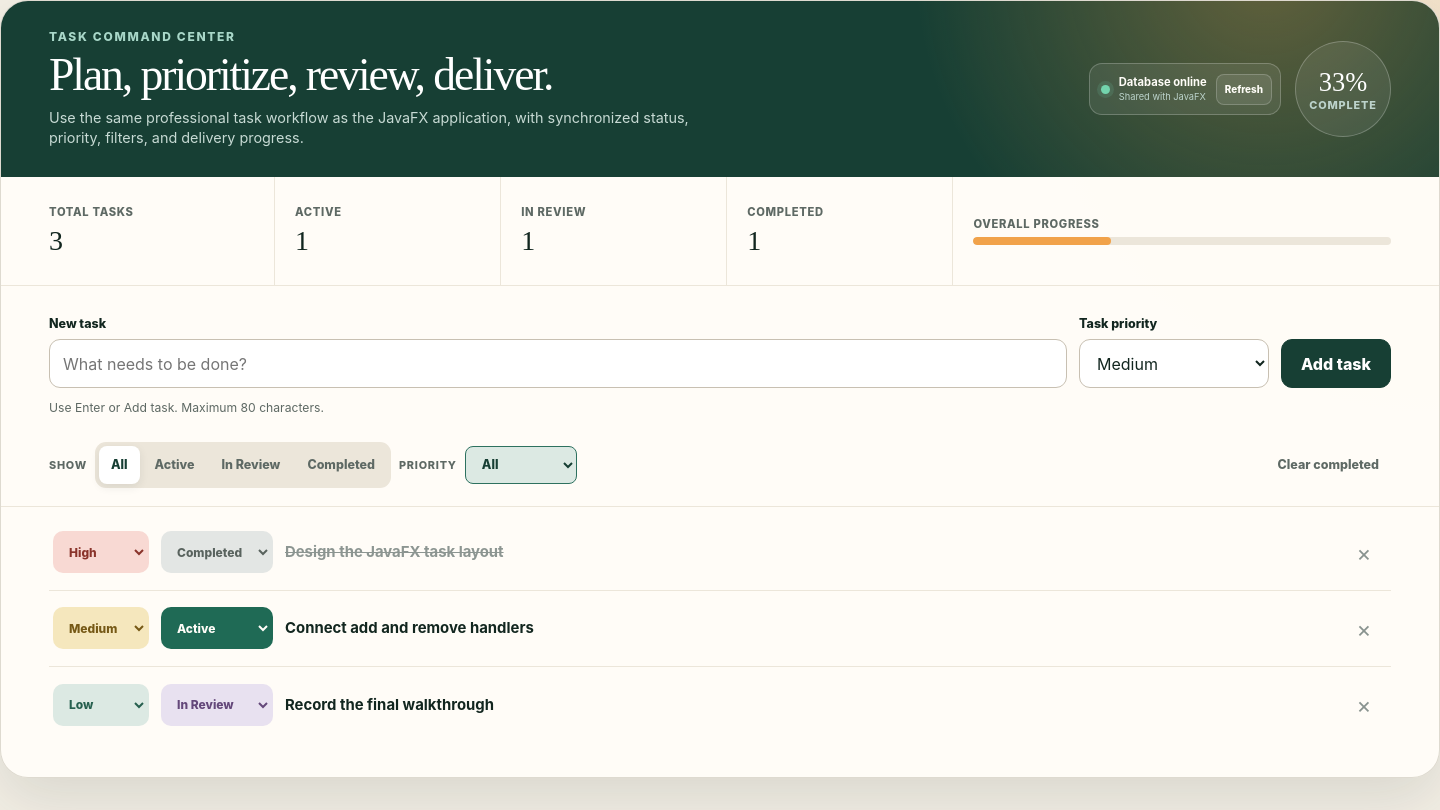
Test: AdvancedTaskLab › moves tasks into review and combines status and priority filters
Expected: the text "Connect add and remove handlers" is shown, [285, 619, 534, 637]
Select "In Review" in the dropdown named "Status for \"Connect add and remove handlers\"" at (217, 628), box [161, 607, 273, 649]
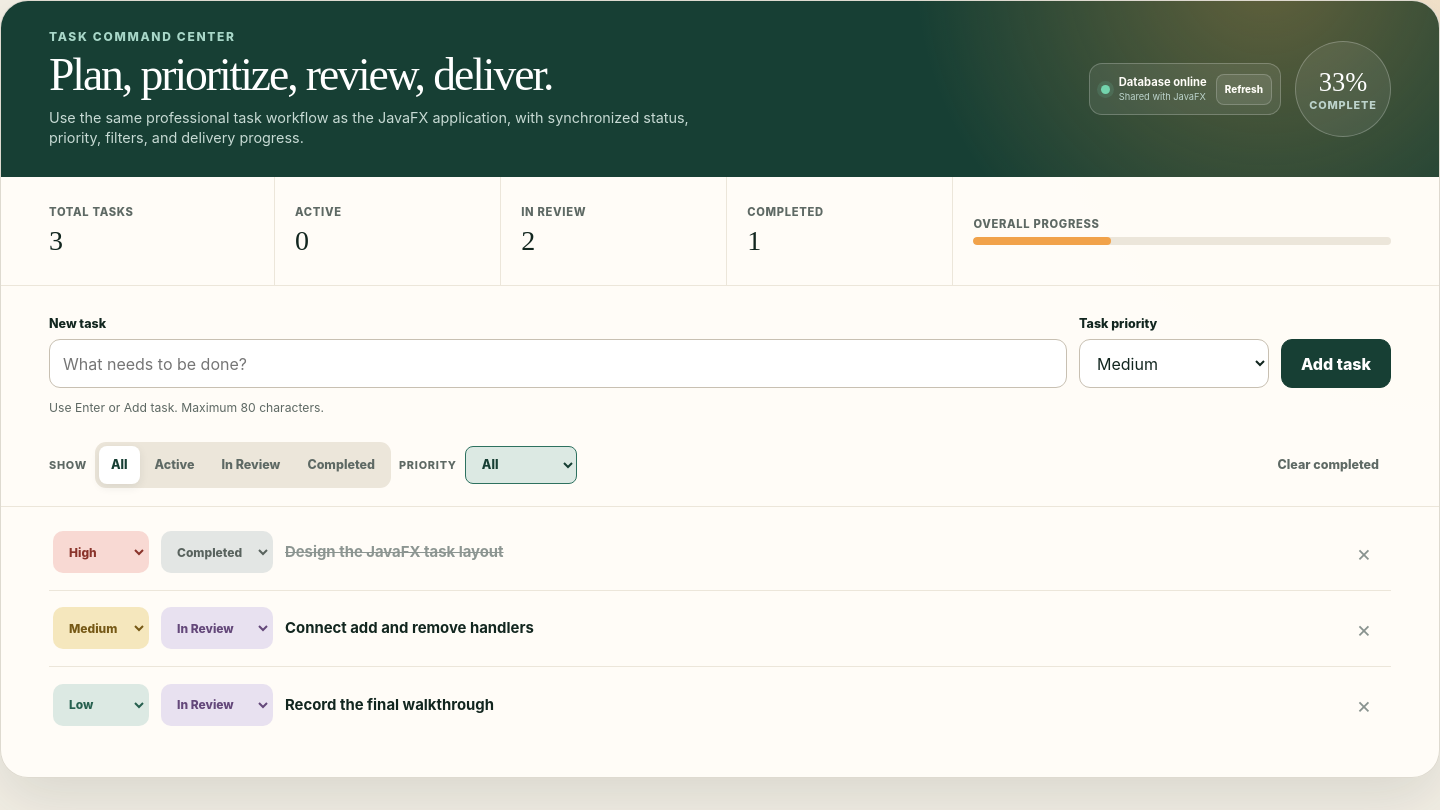
Click the button "In Review" at (251, 464), box [210, 446, 292, 484]
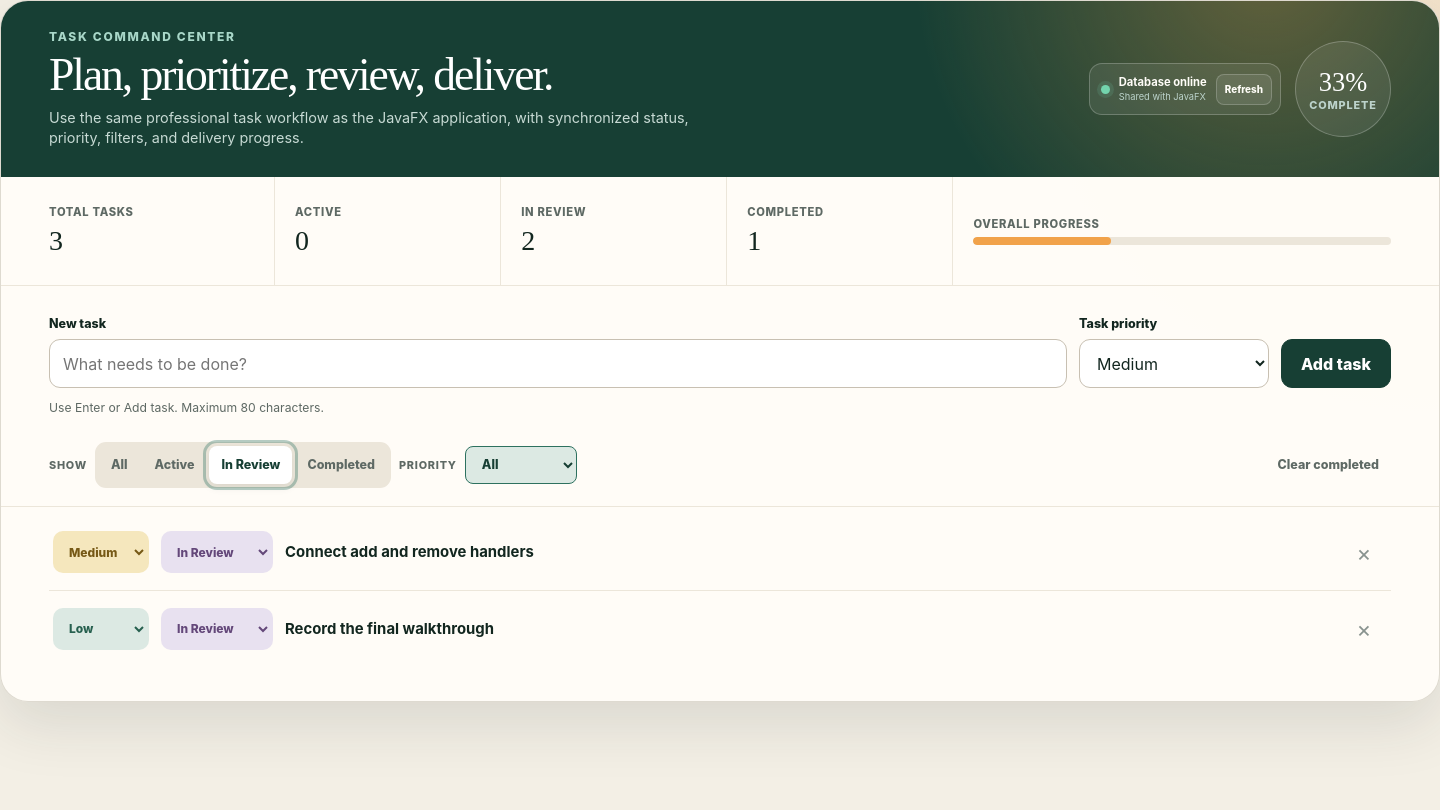
Expected: the text "Connect add and remove handlers" is shown, [285, 543, 534, 561]
Expected: the text "Record the final walkthrough" is shown, [285, 620, 494, 638]
Select "Medium" in the dropdown labelled "Priority" at (521, 464), box [465, 446, 577, 484]
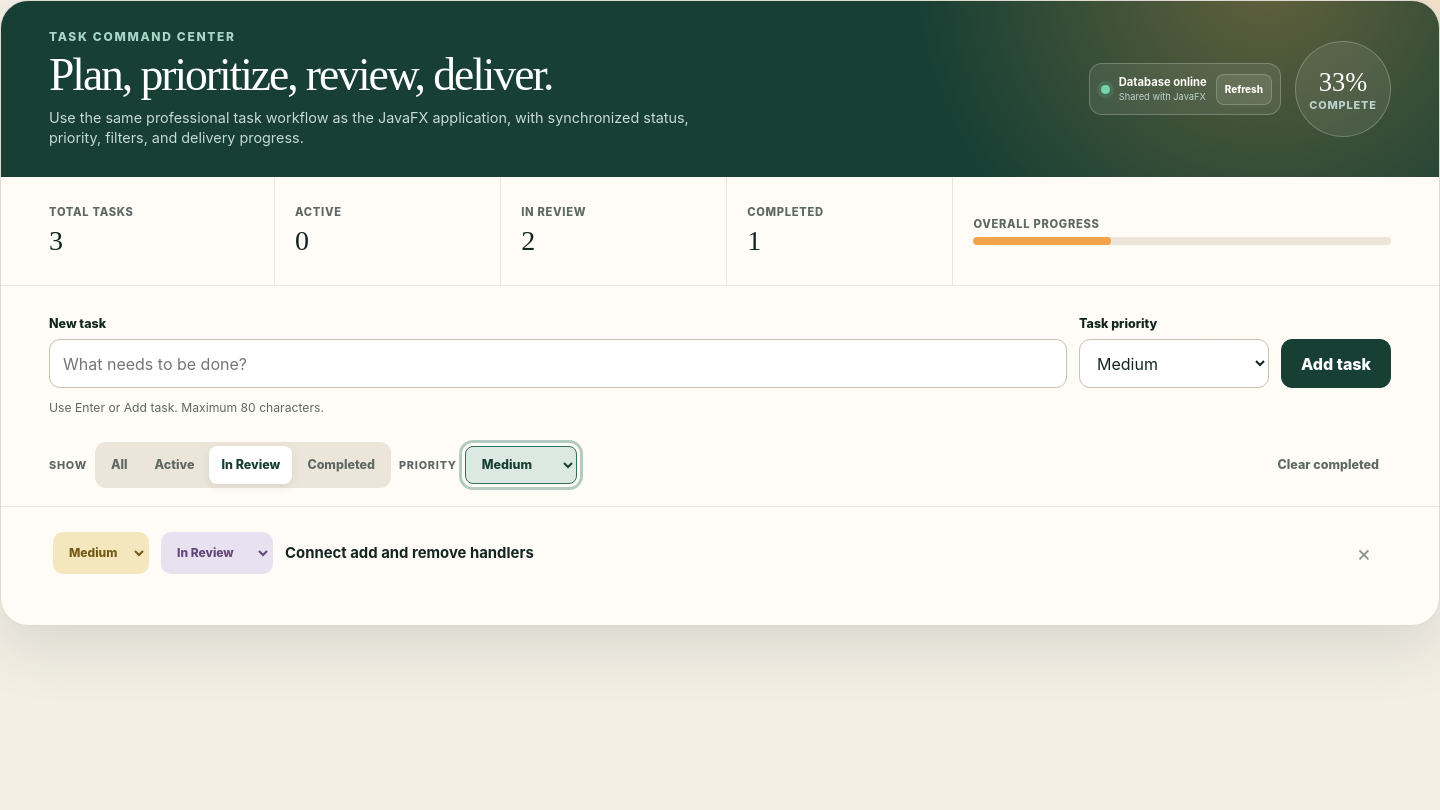
Expected: the text "Connect add and remove handlers" is shown, [285, 544, 534, 562]
Expected: the text "Record the final walkthrough" is gone
